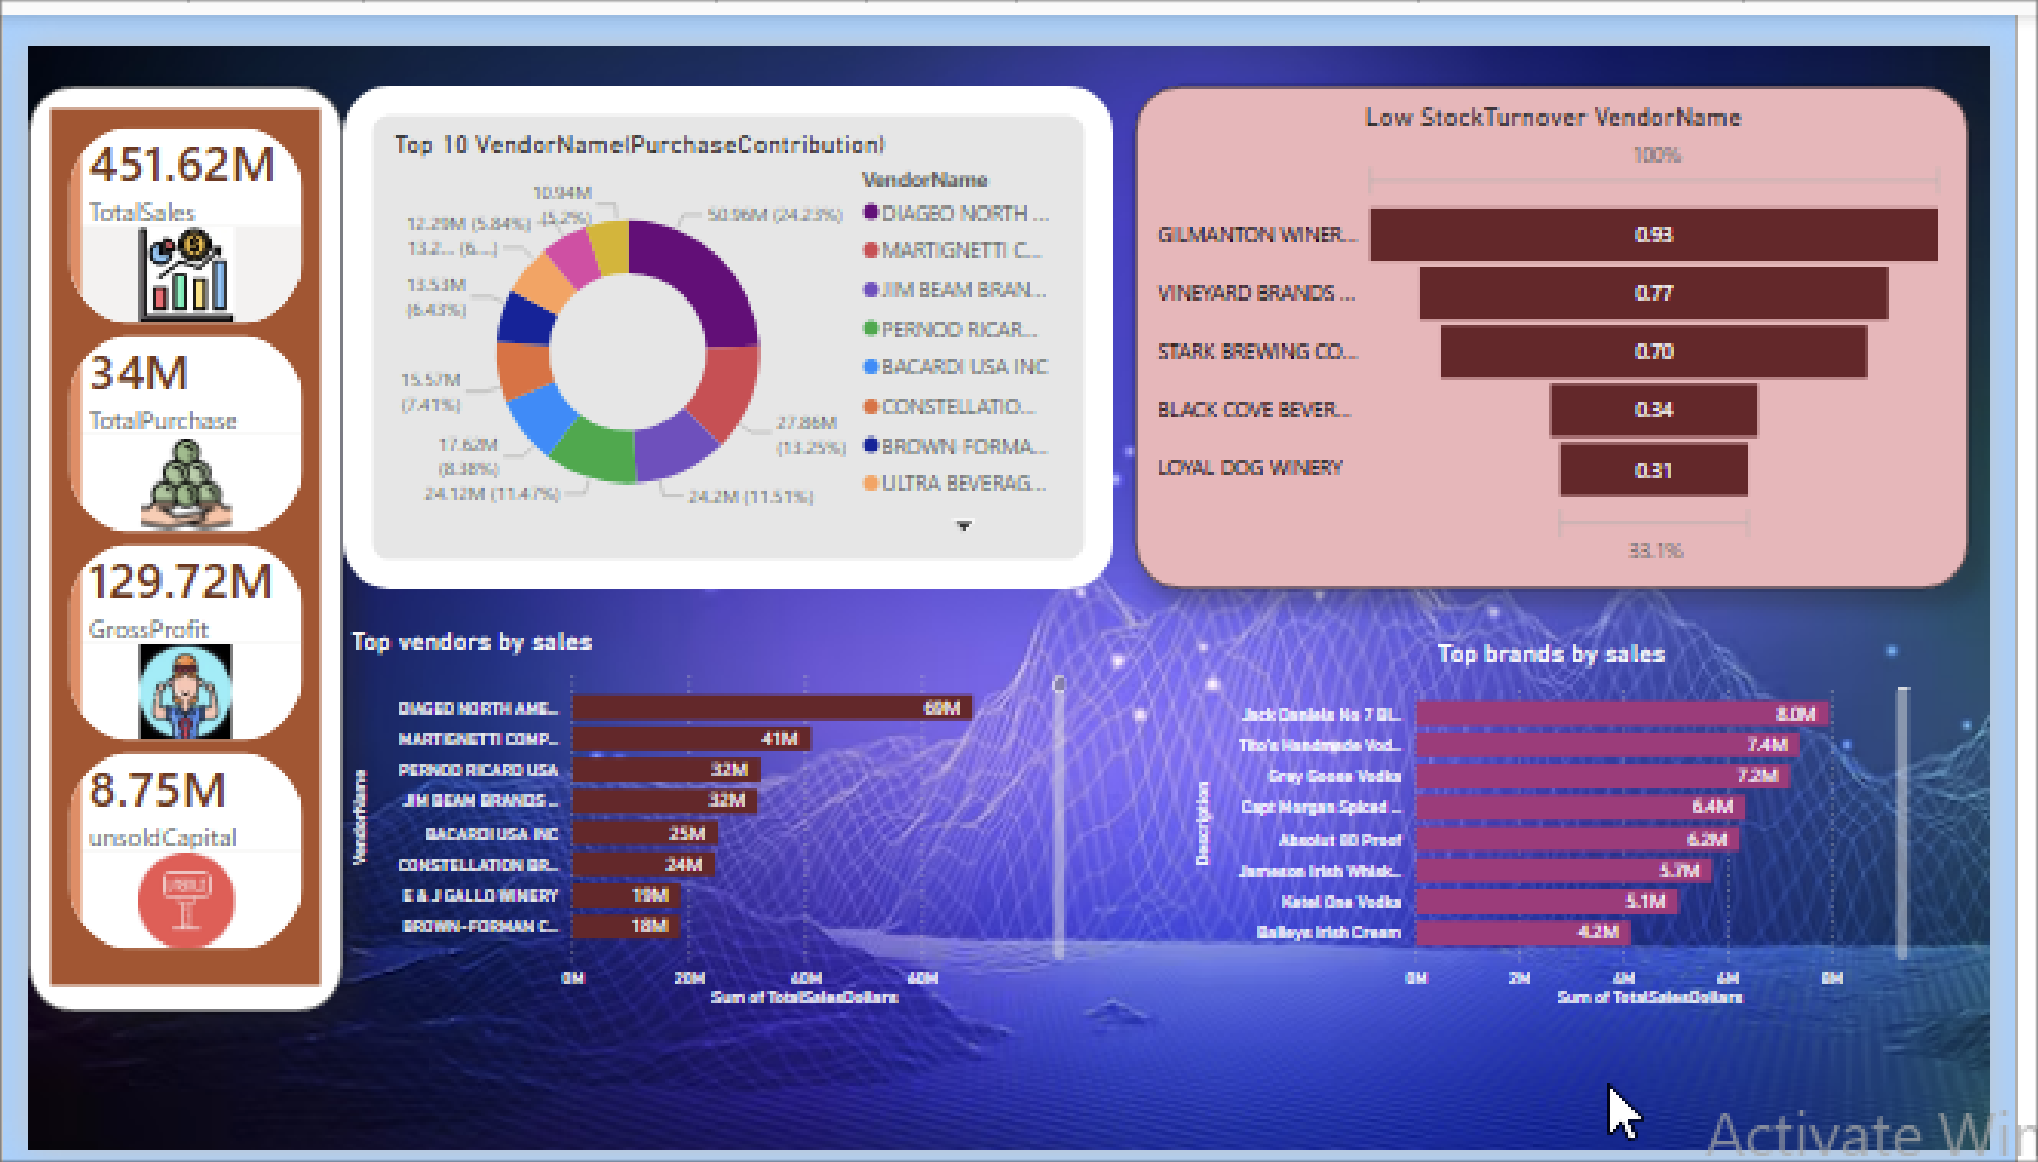

The page's visual inventory and layout, read from the dashboard file:
{"tool":"powerbi","page":{"name":"Page 1","canvas":[1280,720],"ordinal":0},"visuals":[{"type":"cardVisual","fields":{"Data":["Sum(vendor_new_data.TotalSalesDollars)","Sum(vendor_new_data.TotalPurchaseQuantity)","Sum(vendor_new_data.GrossProfit)","Sum(vendor_new_data.unsoldCapital)"]},"box":[0,26.9,205.8,588.5],"z":0},{"type":"donutChart","title":"Top 10 VendorName(PurchaseContribution)","fields":{"Category":["vendor_new_data.VendorName"],"Y":["Sum(vendor_new_data.TotalPurchaseDollars)"]},"box":[206,26,502,328],"z":1000},{"type":"barChart","title":"Top vendors by sales","fields":{"Category":["vendor_new_data.VendorName"],"Y":["Sum(vendor_new_data.TotalSalesDollars)"]},"box":[206,378,476,252],"z":2000},{"type":"funnel","title":"Low StockTurnover  VendorName","fields":{"Category":["vendor_new_data.VendorName"],"Y":["Sum(vendor_new_data.StockTurnover)"]},"box":[722,26,544,328],"z":3000},{"type":"barChart","title":"Top brands by sales","fields":{"Y":["Sum(vendor_new_data.TotalSalesDollars)"],"Category":["purchase_prices.Description"]},"box":[756,386,476,244],"z":4000}]}

Visuals, with their boxes in screenshot pixels (x1, y1, x2, y2), scaled from the page's 1280x720 canvas onto the 2038x1162 screenshot:
cardVisual - Sum(vendor_new_data.TotalSalesDollars) x Sum(vendor_new_data.TotalPurchaseQuantity): box(0, 43, 328, 993)
"Top 10 VendorName(PurchaseContribution)" donutChart: box(328, 42, 1127, 571)
"Top vendors by sales" barChart: box(328, 610, 1086, 1017)
"Low StockTurnover  VendorName" funnel: box(1150, 42, 2016, 571)
"Top brands by sales" barChart: box(1204, 623, 1962, 1017)
